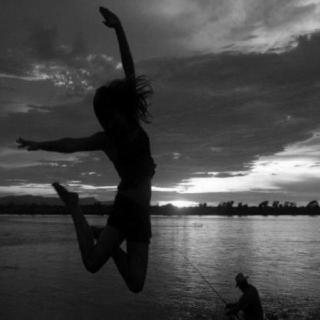other: (164, 166, 228, 214)
